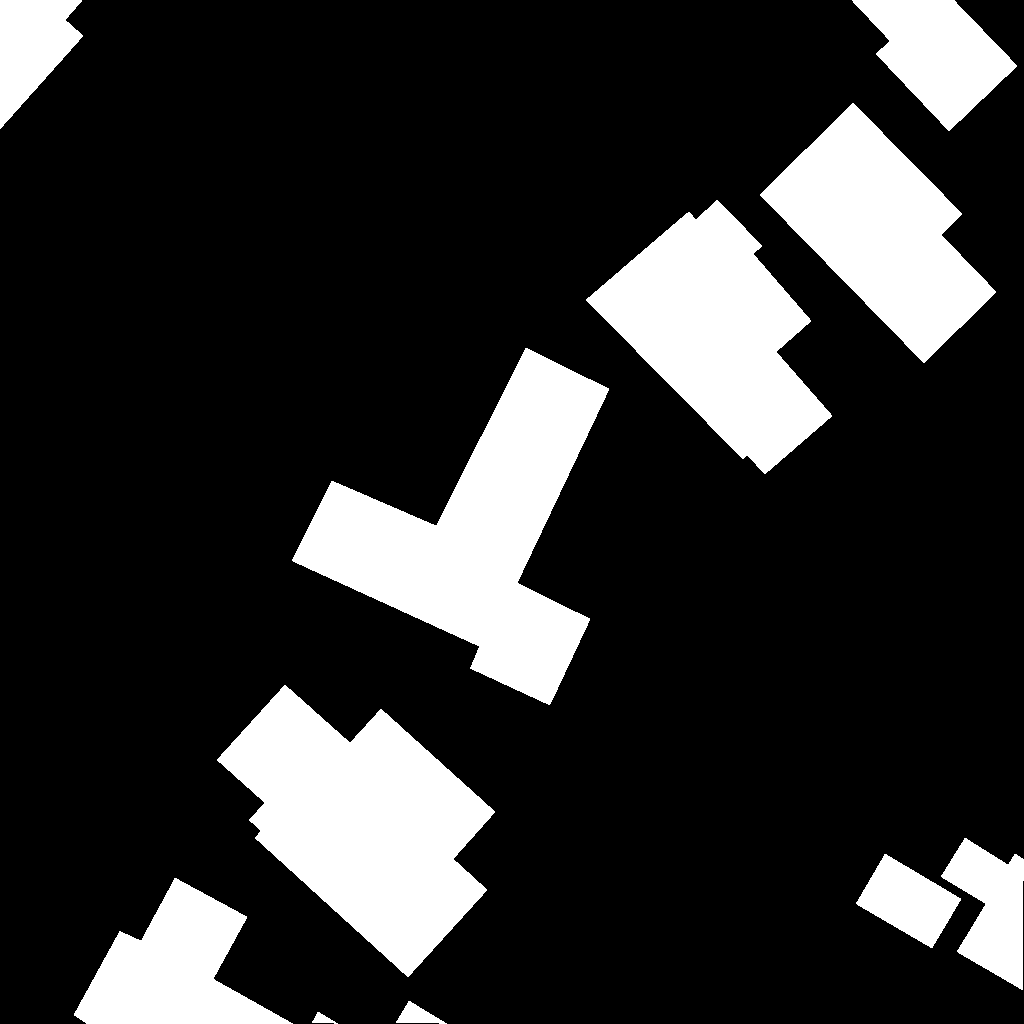building: (292, 348, 610, 706), (217, 685, 496, 978), (586, 200, 833, 475), (760, 103, 997, 364), (74, 878, 339, 1024), (851, 0, 1018, 132), (941, 838, 1024, 991), (0, 0, 84, 130), (856, 854, 962, 949), (396, 1001, 448, 1024)
